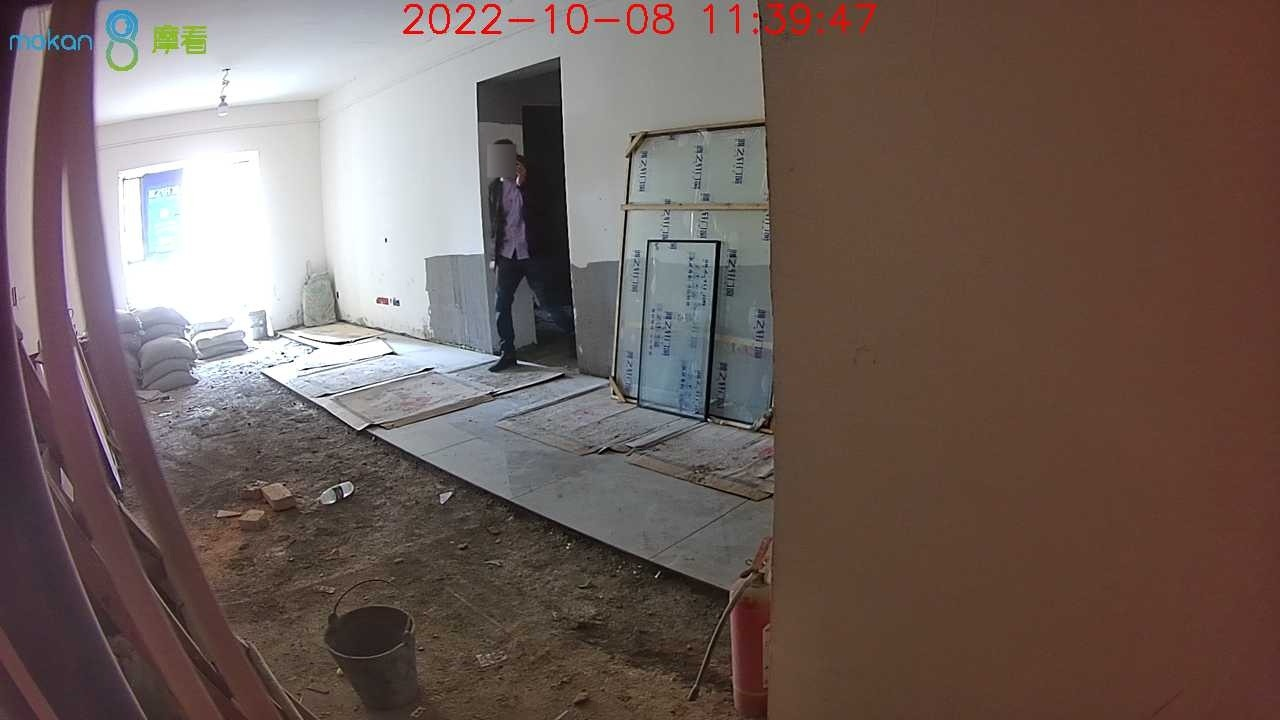people: (486, 138, 569, 370)
window: (116, 154, 270, 332)
